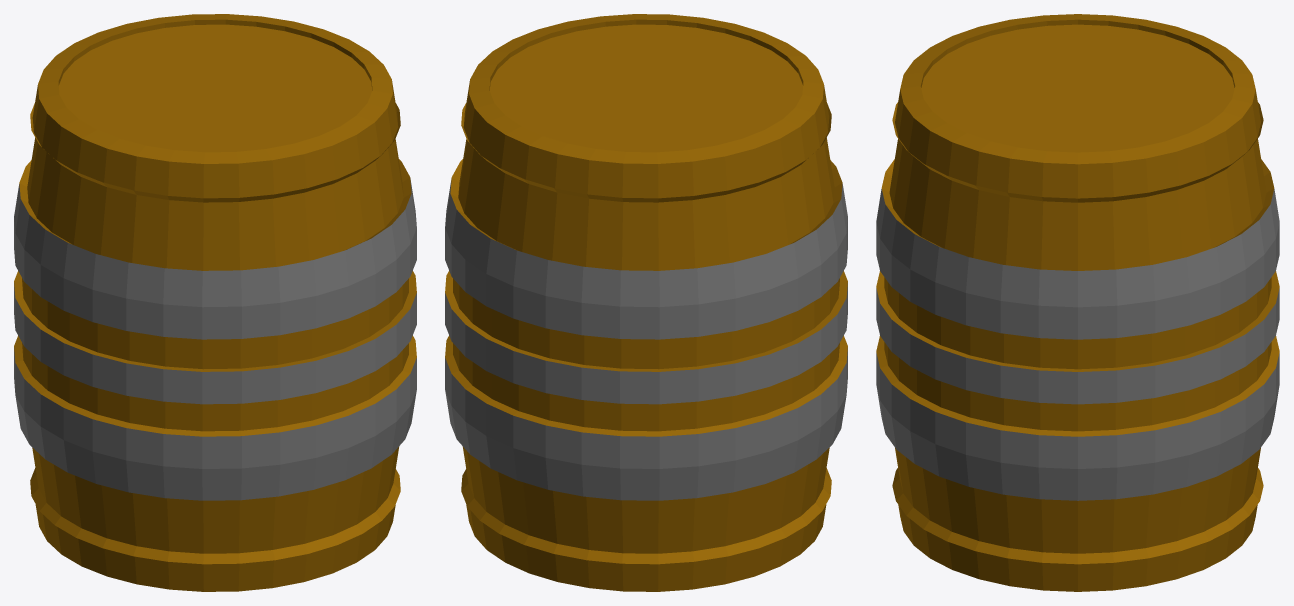
Rendered from Barrel.fbx.
3 views of the same model, side by side, from view 1: azimuth 30°, elevation 25°; view 2: azimuth 150°, elevation 25°; view 3: azimuth 270°, elevation 25° (orthographic).
Parts seen in each view (by area): view 1: Cylinder; view 2: Cylinder; view 3: Cylinder.
Boxes of the visible parts, x1,y1,x2,y2 form: Cylinder: (14,14,416,591); Cylinder: (445,14,847,591); Cylinder: (876,14,1279,591).
Bounding box in the file's own units: 224 × 265 × 224.
